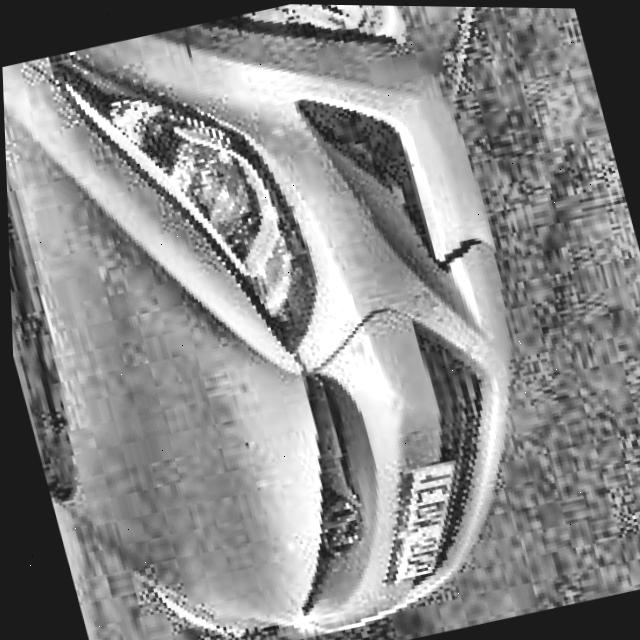head_lamp: (105, 65, 312, 330), (318, 87, 437, 238)
